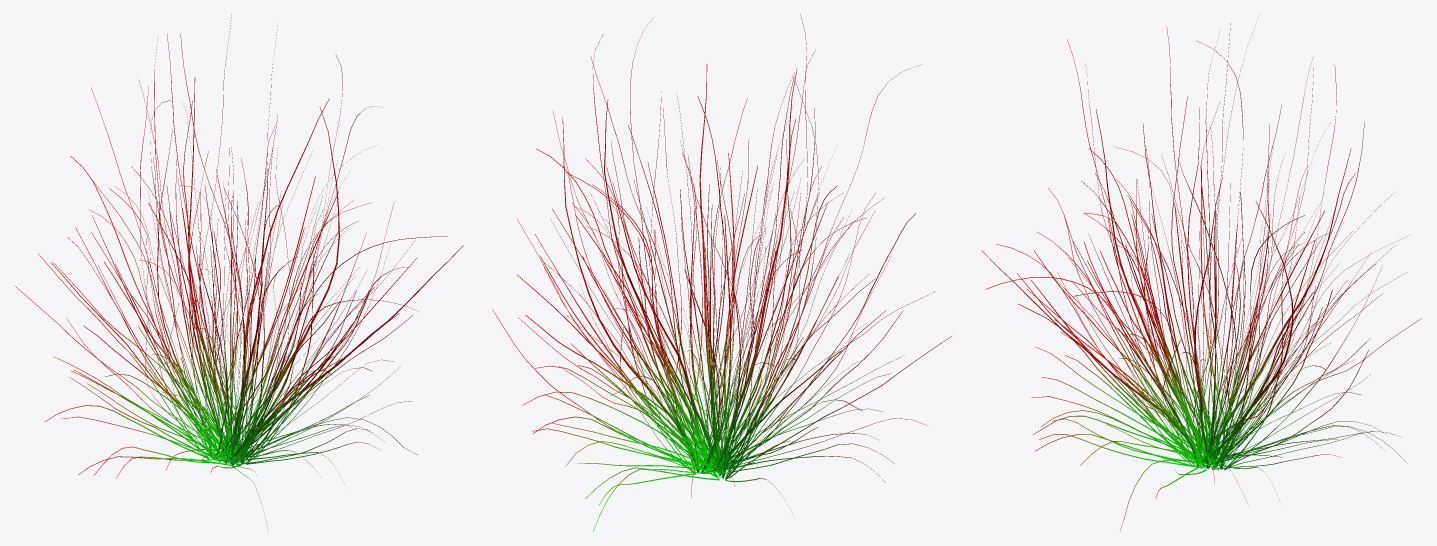
Rendered from Xeric Grass_LOD0_Var4_xjfgdhaqx.fbx.
3 renders of one model, left to right at view 1: azimuth 30°, elevation 25°; view 2: azimuth 150°, elevation 25°; view 3: azimuth 270°, elevation 25°, orthographic. The views are drawn at different scales.
Visible parts, largest first — view 1: _a8um_Var4_LOD0; view 2: _a8um_Var4_LOD0; view 3: _a8um_Var4_LOD0.
Boxes of the visible parts, x1=… form: _a8um_Var4_LOD0: x1=14, y1=14, x2=463, y2=531; _a8um_Var4_LOD0: x1=492, y1=14, x2=951, y2=531; _a8um_Var4_LOD0: x1=981, y1=23, x2=1421, y2=530.
Size of the model in its own units: 175 by 183 by 182.
